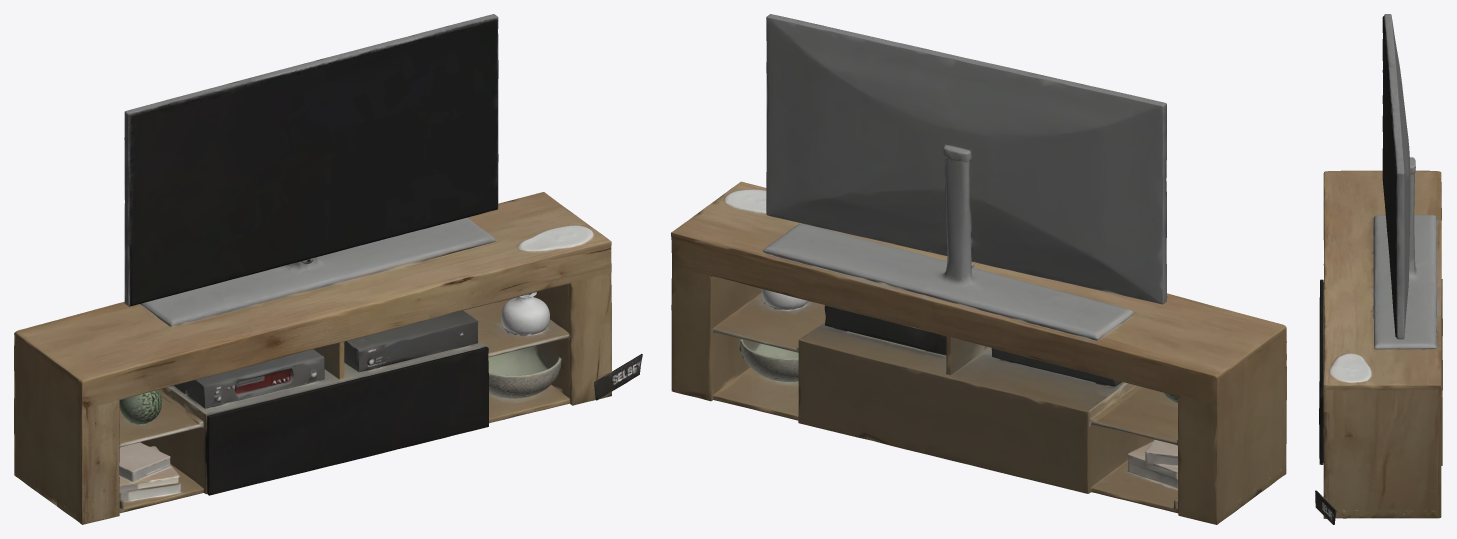
3 views of the same model, side by side, from view 1: azimuth 30°, elevation 25°; view 2: azimuth 150°, elevation 25°; view 3: azimuth 270°, elevation 25° (orthographic). The views are drawn at different scales.
Visible parts, largest first — view 1: tripo_node_157d0d4b-e476-46e2-96be-37b53b7dba87; view 2: tripo_node_157d0d4b-e476-46e2-96be-37b53b7dba87; view 3: tripo_node_157d0d4b-e476-46e2-96be-37b53b7dba87.
Part boxes in pixels (x1=…): tripo_node_157d0d4b-e476-46e2-96be-37b53b7dba87: x1=14, y1=14, x2=642, y2=524; tripo_node_157d0d4b-e476-46e2-96be-37b53b7dba87: x1=671, y1=14, x2=1286, y2=524; tripo_node_157d0d4b-e476-46e2-96be-37b53b7dba87: x1=1315, y1=14, x2=1442, y2=524.
Size of the model in its own units: 0.983 by 0.6054 by 0.2214.
1 material, 1 textured.
